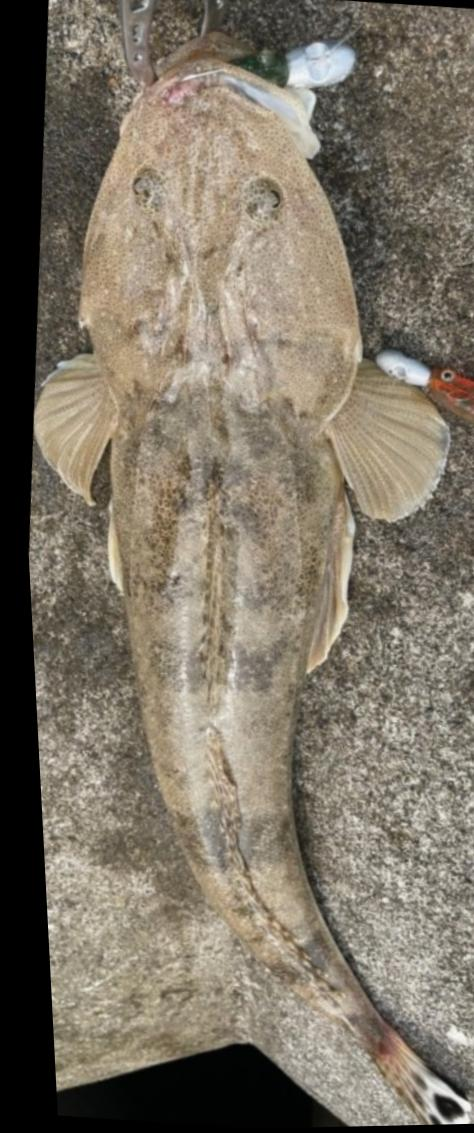fish: (32, 32, 457, 1127)
